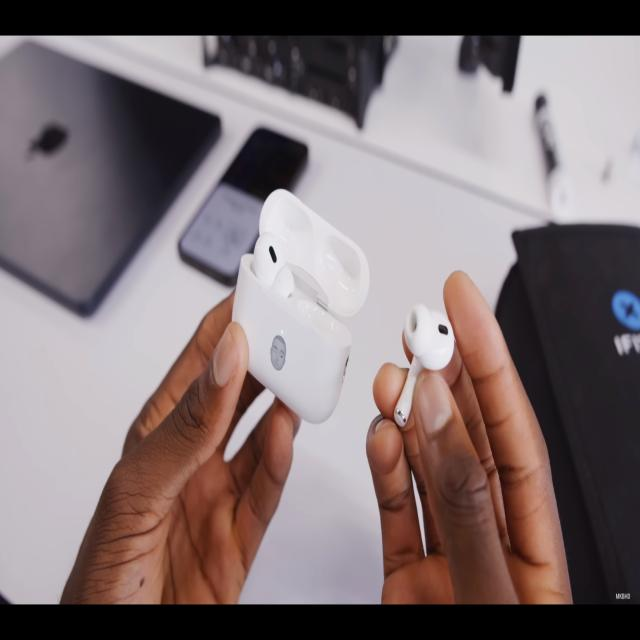airpods: (391, 300, 459, 430)
